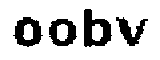b: (81, 7, 113, 49)
o: (11, 16, 43, 48), (48, 18, 75, 48)
v: (114, 16, 148, 47)
